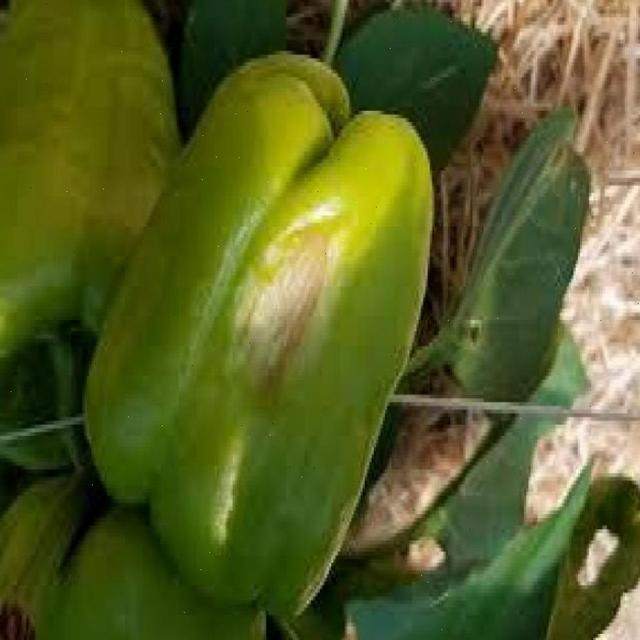Sunscald Fruit: (145, 163, 233, 240)
